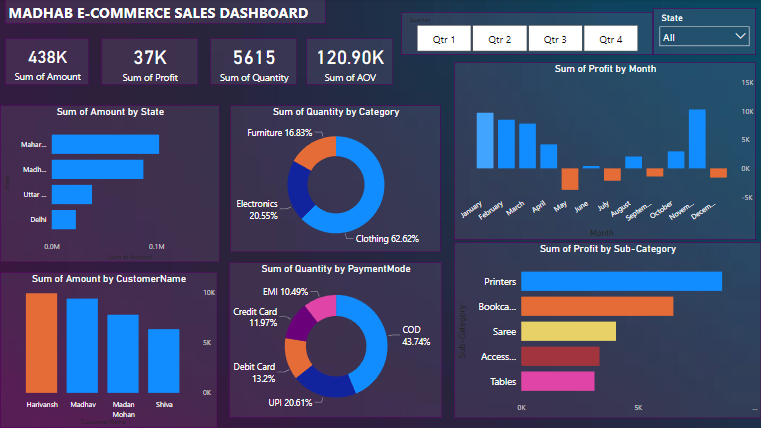

What the dashboard file says about the page in this screenshot:
{"tool":"powerbi","page":{"name":"Page 1","canvas":[1280,720],"ordinal":0},"visuals":[{"type":"textbox","box":[10.1,0,539.2,42],"z":0},{"type":"columnChart","fields":{"Category":["Orders.Order Date.Variation.Date Hierarchy.Month"],"Y":["Details.Profit"]},"box":[764.3,105.8,507.3,299],"z":1000},{"type":"barChart","fields":{"Category":["Details.Sub-Category"],"Y":["Details.Profit"]},"box":[764.3,408.2,515.7,295.6],"z":2000},{"type":"donutChart","fields":{"Category":["Details.Category"],"Y":["Details.Quantity"]},"box":[388,178.1,354.4,246.9],"z":3000},{"type":"donutChart","fields":{"Category":["Details.PaymentMode","Details.Category"],"Y":["Details.Quantity"]},"box":[386.4,441.8,357.8,262],"z":4000},{"type":"card","fields":{"Values":["Details.Amount"]},"box":[10.1,65.5,141.1,79],"z":5000},{"type":"card","fields":{"Values":["Details.Profit"]},"box":[171.3,65.5,162.9,79],"z":6000},{"type":"card","fields":{"Values":["Details.Quantity"]},"box":[354.4,65.5,146.1,79],"z":7000},{"type":"card","fields":{"Values":["Details.AOV"]},"box":[515.7,65.5,146.1,79],"z":8000},{"type":"barChart","fields":{"Category":["Orders.State"],"Y":["Details.Amount"]},"box":[1.7,178.1,369,264],"z":9000},{"type":"columnChart","fields":{"Category":["Orders.CustomerName"],"Y":["Details.Amount"]},"box":[1.7,458.6,364.5,262],"z":10000},{"type":"slicer","fields":{"Values":["Orders.Order Date.Variation.Date Hierarchy.Quarter"]},"box":[675.3,21.8,423.3,72.2],"z":11000},{"type":"slicer","fields":{"Values":["Orders.State"]},"box":[1098.6,15.1,173,79],"z":12000}]}

Visuals, with their boxes in screenshot pixels (x1, y1, x2, y2), scaled from the page's 1280x720 canvas onto the 761x428 screenshot:
textbox: {"x1": 6, "y1": 0, "x2": 327, "y2": 25}
columnChart - Orders.Order Date.Variation.Date Hierarchy.Month x Details.Profit: {"x1": 454, "y1": 63, "x2": 756, "y2": 241}
barChart - Details.Sub-Category x Details.Profit: {"x1": 454, "y1": 243, "x2": 760, "y2": 418}
donutChart - Details.Category x Details.Quantity: {"x1": 231, "y1": 106, "x2": 441, "y2": 253}
donutChart - Details.PaymentMode x Details.Category: {"x1": 230, "y1": 263, "x2": 442, "y2": 418}
card - Details.Amount: {"x1": 6, "y1": 39, "x2": 90, "y2": 86}
card - Details.Profit: {"x1": 102, "y1": 39, "x2": 199, "y2": 86}
card - Details.Quantity: {"x1": 211, "y1": 39, "x2": 298, "y2": 86}
card - Details.AOV: {"x1": 307, "y1": 39, "x2": 393, "y2": 86}
barChart - Orders.State x Details.Amount: {"x1": 1, "y1": 106, "x2": 220, "y2": 263}
columnChart - Orders.CustomerName x Details.Amount: {"x1": 1, "y1": 273, "x2": 218, "y2": 427}
slicer - Orders.Order Date.Variation.Date Hierarchy.Quarter: {"x1": 401, "y1": 13, "x2": 653, "y2": 56}
slicer - Orders.State: {"x1": 653, "y1": 9, "x2": 756, "y2": 56}
